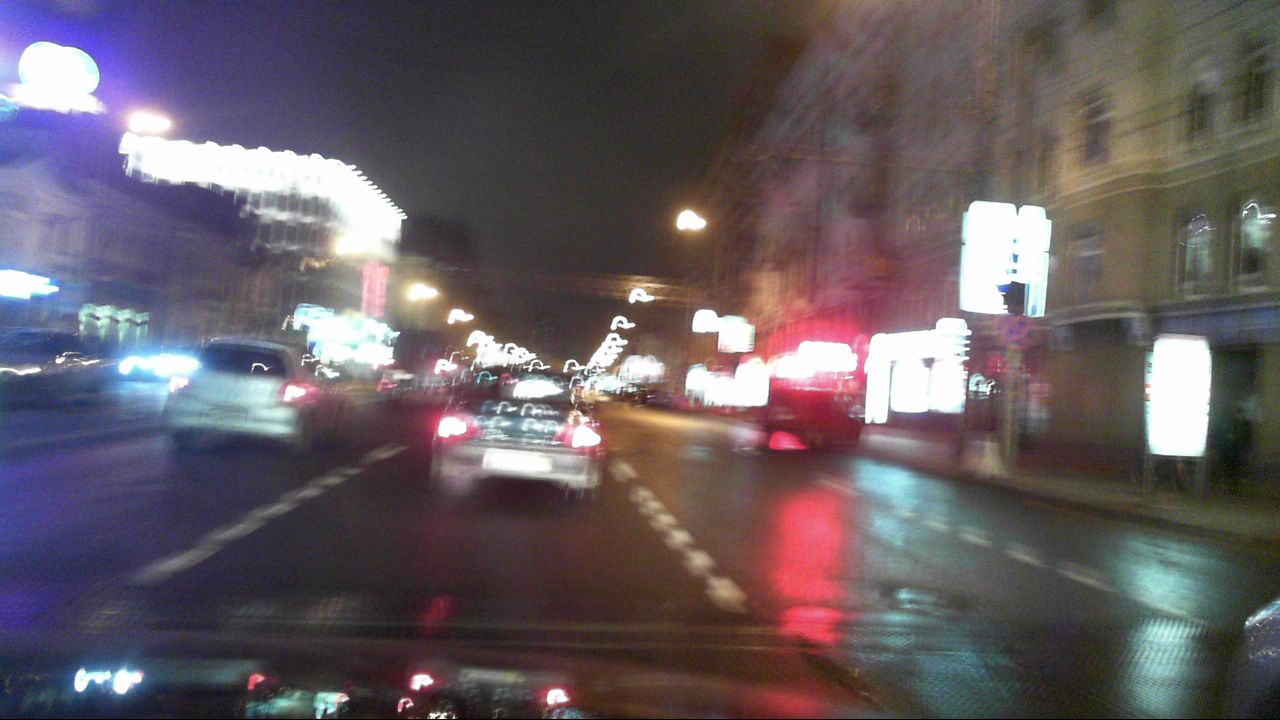No Parking: (1000, 316, 1037, 352)
